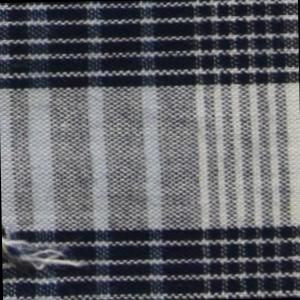Damage: (2, 224, 86, 274)
